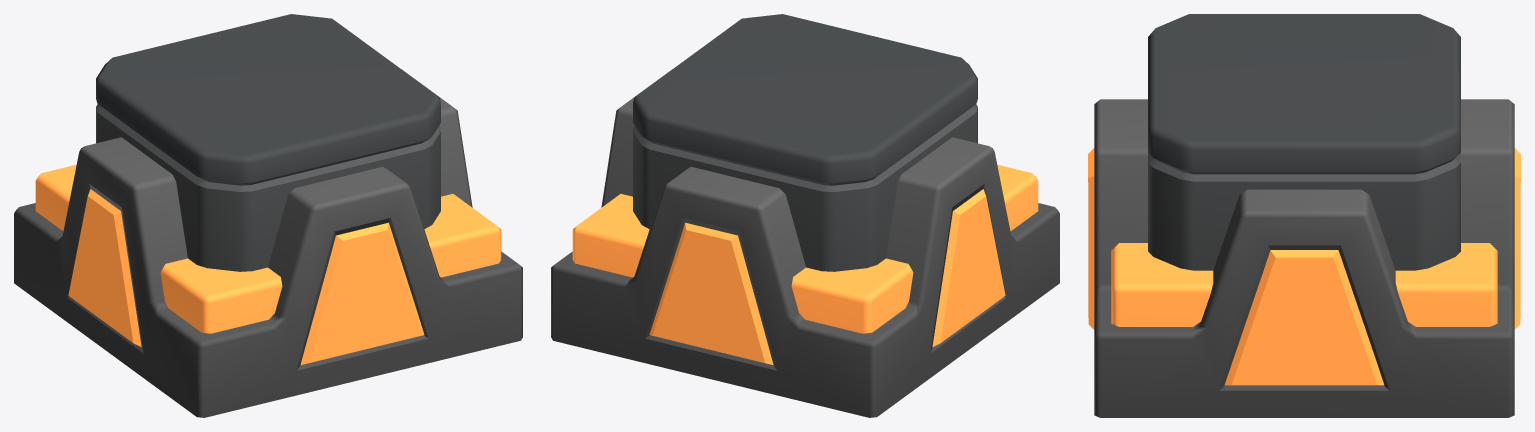
The model's file is statue_podium_001.glb.
3 renders of one model, left to right at view 1: azimuth 30°, elevation 25°; view 2: azimuth 150°, elevation 25°; view 3: azimuth 270°, elevation 25°, orthographic. The views are drawn at different scales.
Visible parts, largest first — view 1: statue_podium_001; view 2: statue_podium_001; view 3: statue_podium_001.
Part boxes in pixels (left/top/right/bottom): statue_podium_001: left=14, top=14, right=522, bottom=417; statue_podium_001: left=551, top=14, right=1059, bottom=417; statue_podium_001: left=1088, top=14, right=1520, bottom=417.
Bounding box in the file's own units: 5.39 × 3.47 × 5.39.
Materials: 2 (2 with a texture image).
